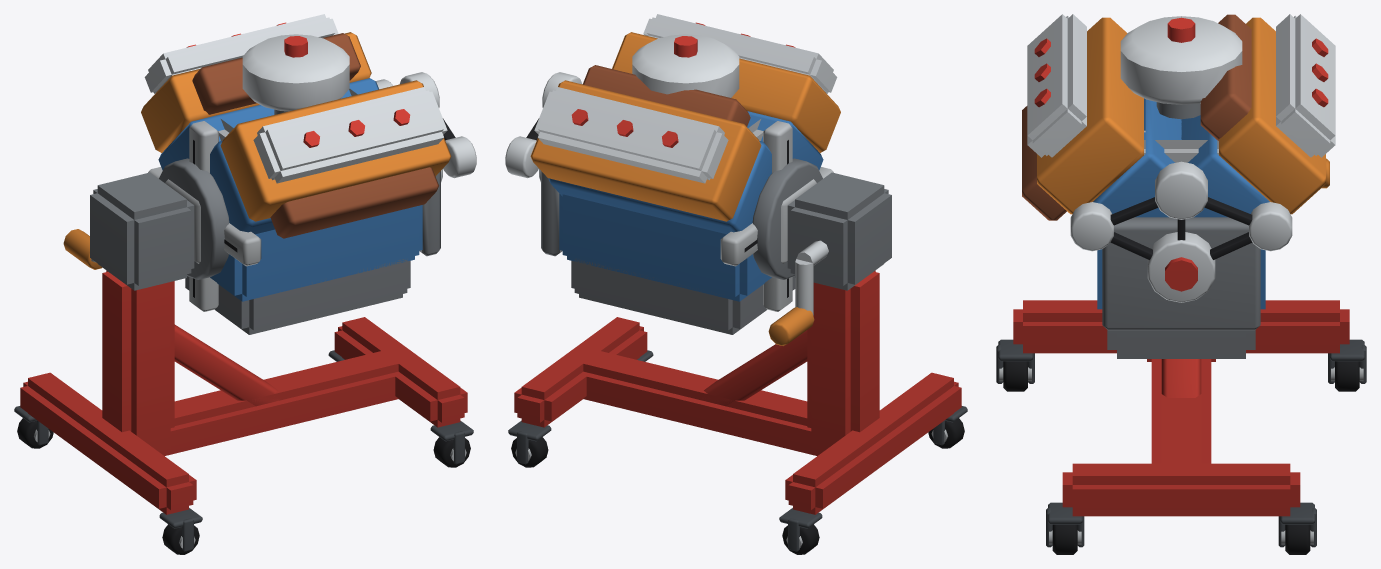
The model's file is SM_Engine_OnStand_01.glb.
The picture shows the model from 3 angles, left to right: view 1: azimuth 30°, elevation 25°; view 2: azimuth 150°, elevation 25°; view 3: azimuth 270°, elevation 25°; orthographic projection. The views are drawn at different scales.
Parts seen in each view (by area): view 1: SM_Engine_OnStand_01; view 2: SM_Engine_OnStand_01; view 3: SM_Engine_OnStand_01.
Boxes of the visible parts, bbox=[...] form: SM_Engine_OnStand_01: bbox=[14, 14, 476, 554]; SM_Engine_OnStand_01: bbox=[505, 14, 967, 554]; SM_Engine_OnStand_01: bbox=[996, 14, 1366, 554].
Size of the model in its own units: 0.92 by 1.05 by 0.748.
1 material, 1 textured.
